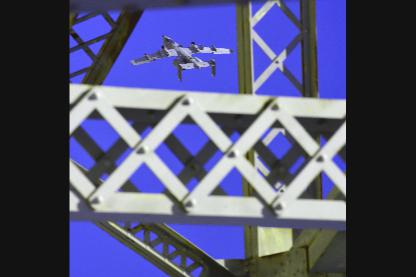A10: (130, 36, 235, 82)
